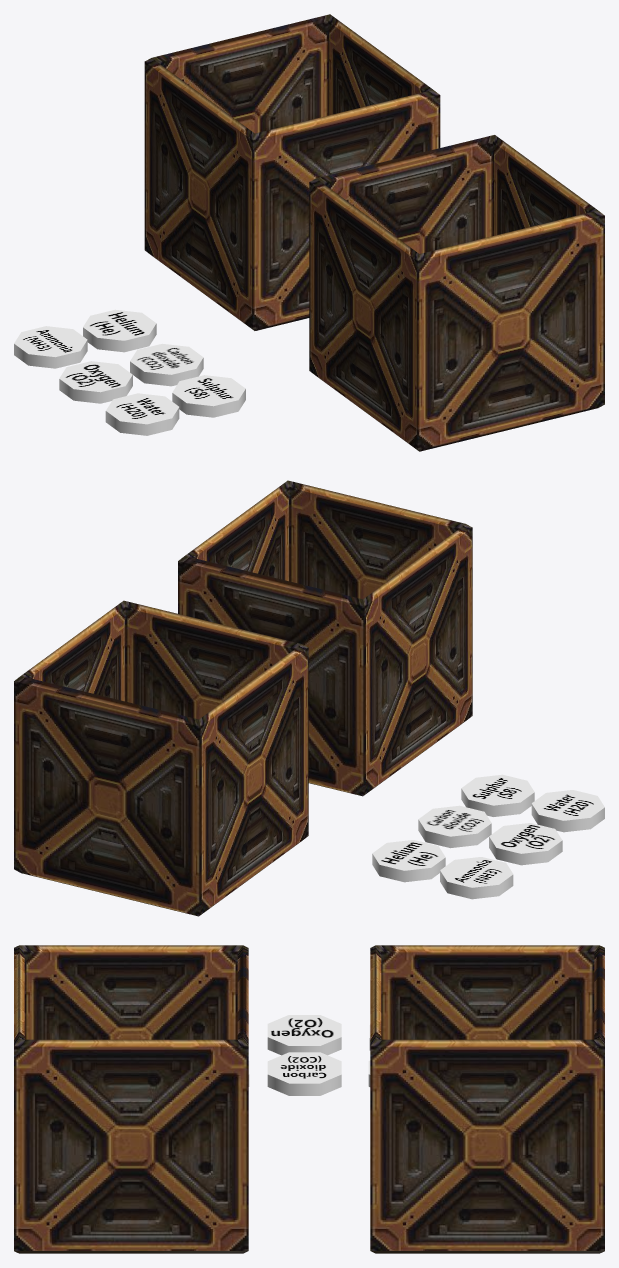
Rendered from level_5a.fbx.
3 views of the same model, one above another, from view 1: azimuth 30°, elevation 25°; view 2: azimuth 150°, elevation 25°; view 3: azimuth 270°, elevation 25° (orthographic). The views are drawn at different scales.
Parts seen in each view (by area): view 1: moe, moc, water_moc, ammonia_moc, helium__moe_, sulpher_moe, oxygen__moe_, carbon_dioxide_moc; view 2: moc, moe, oxygen__moe_, ammonia_moc, carbon_dioxide_moc, helium__moe_, water_moc, sulpher_moe; view 3: moe, moc, carbon_dioxide_moc, oxygen__moe_.
Boxes of the visible parts, left/top/right/bottom form: moe: left=309, top=135, right=604, bottom=451; moc: left=144, top=14, right=440, bottom=330; water_moc: left=105, top=393, right=179, bottom=435; ammonia_moc: left=14, top=326, right=87, bottom=368; helium__moe_: left=83, top=309, right=156, bottom=352; sulpher_moe: left=172, top=375, right=245, bottom=417; oxygen__moe_: left=59, top=361, right=132, bottom=403; carbon_dioxide_moc: left=130, top=343, right=203, bottom=386; moc: left=14, top=600, right=308, bottom=916; moe: left=178, top=480, right=472, bottom=796; oxygen__moe_: left=489, top=823, right=562, bottom=865; ammonia_moc: left=440, top=857, right=513, bottom=899; carbon_dioxide_moc: left=418, top=805, right=491, bottom=848; helium__moe_: left=372, top=840, right=445, bottom=882; water_moc: left=531, top=790, right=604, bottom=832; sulpher_moe: left=461, top=774, right=534, bottom=816; moe: left=14, top=945, right=248, bottom=1253; moc: left=370, top=945, right=604, bottom=1253; carbon_dioxide_moc: left=267, top=1052, right=341, bottom=1095; oxygen__moe_: left=267, top=1015, right=341, bottom=1055.
Size of the model in its own units: 296 by 138 by 346.
Materials: 2 (2 with a texture image).
